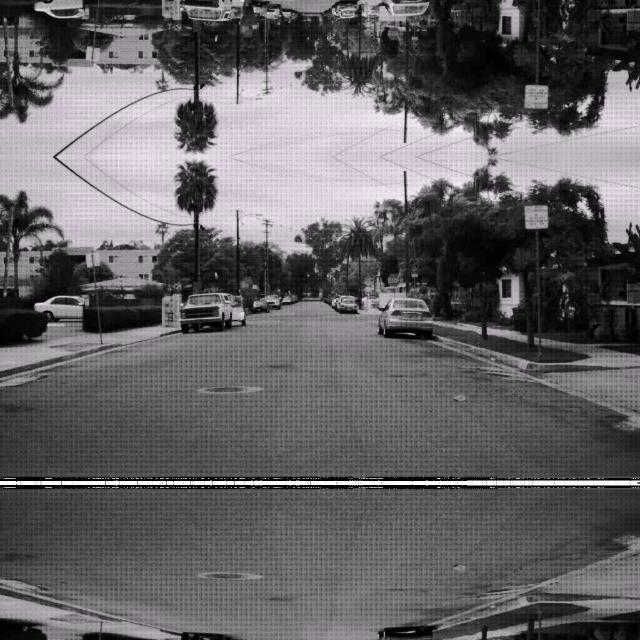stop: (386, 273, 399, 285), (386, 27, 399, 39)
